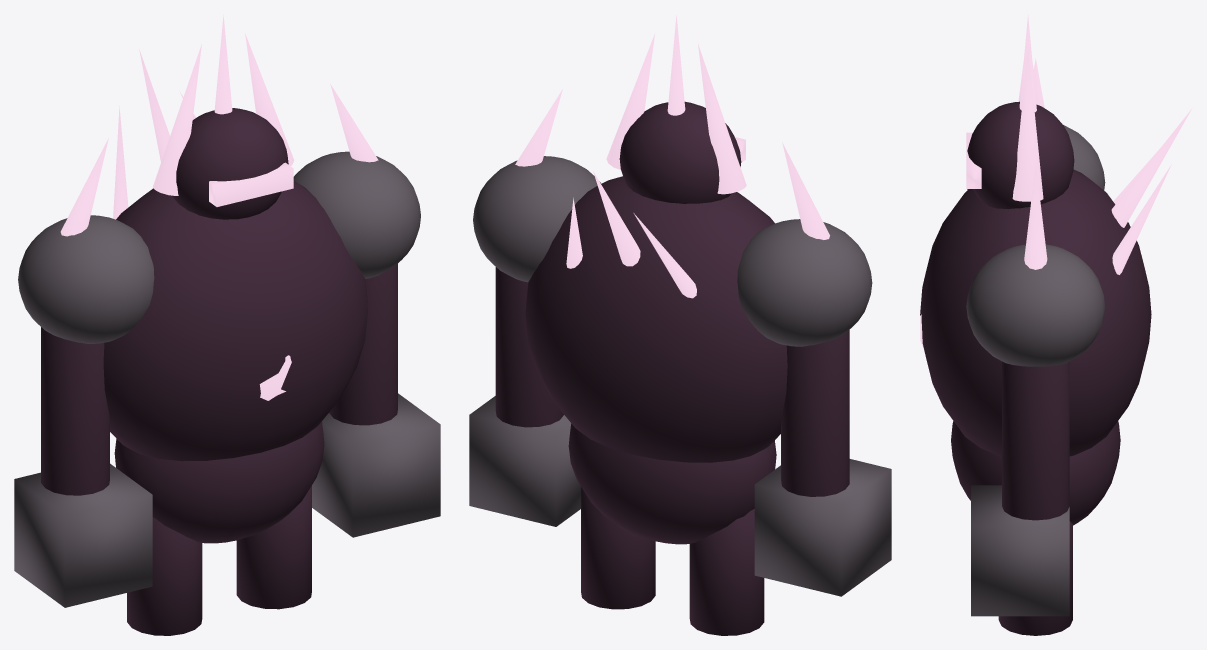
The model's file is Warden.fbx.
3 views of the same model, side by side, from view 1: azimuth 30°, elevation 25°; view 2: azimuth 150°, elevation 25°; view 3: azimuth 270°, elevation 25° (orthographic). The views are drawn at different scales.
Parts seen in each view (by area): view 1: Torso, FistL, Belly, PauldronL, FistR, ArmL, PauldronR, Head, LegR, ArmR, LegL, Crown1 (+8 smaller); view 2: Torso, FistL, Belly, PauldronL, FistR, ArmL, PauldronR, Head, LegL, LegR, ArmR, Crown1 (+7 smaller); view 3: Torso, PauldronR, FistR, ArmR, Head, Belly, Crown3, LegR, Back2, SpikeR, PauldronL, Back3 (+2 smaller).
Boxes of the visible parts, bbox=[...] form: Torso: bbox=[103, 181, 367, 461]; FistL: bbox=[14, 463, 152, 607]; Belly: bbox=[114, 421, 324, 543]; PauldronL: bbox=[18, 215, 154, 343]; FistR: bbox=[312, 393, 440, 537]; ArmL: bbox=[41, 327, 109, 495]; PauldronR: bbox=[293, 151, 420, 278]; Head: bbox=[172, 108, 288, 219]; LegR: bbox=[236, 485, 311, 609]; ArmR: bbox=[329, 263, 397, 425]; LegL: bbox=[127, 517, 202, 635]; Crown1: bbox=[153, 44, 201, 195]; Torso: bbox=[525, 176, 787, 462]; FistL: bbox=[754, 459, 891, 596]; Belly: bbox=[568, 423, 776, 544]; PauldronL: bbox=[737, 219, 872, 346]; FistR: bbox=[469, 396, 580, 526]; ArmL: bbox=[781, 330, 849, 496]; PauldronR: bbox=[473, 156, 601, 282]; Head: bbox=[619, 101, 741, 203]; LegL: bbox=[689, 509, 764, 635]; LegR: bbox=[581, 487, 655, 609]; ArmR: bbox=[495, 267, 563, 427]; Crown1: bbox=[698, 44, 746, 194]; Torso: bbox=[920, 169, 1151, 456]; PauldronR: bbox=[966, 244, 1105, 366]; FistR: bbox=[971, 485, 1069, 616]; ArmR: bbox=[1002, 361, 1069, 520]; Head: bbox=[967, 101, 1074, 209]; Belly: bbox=[951, 421, 1120, 525]; Crown3: bbox=[1012, 48, 1043, 201]; LegR: bbox=[998, 521, 1072, 635]; Back2: bbox=[1111, 109, 1191, 227]; SpikeR: bbox=[1024, 163, 1047, 269]; PauldronL: bbox=[967, 125, 1105, 190]; Back3: bbox=[1112, 164, 1171, 274].
Size of the model in its own units: 2.8 by 4.15 by 1.77.
